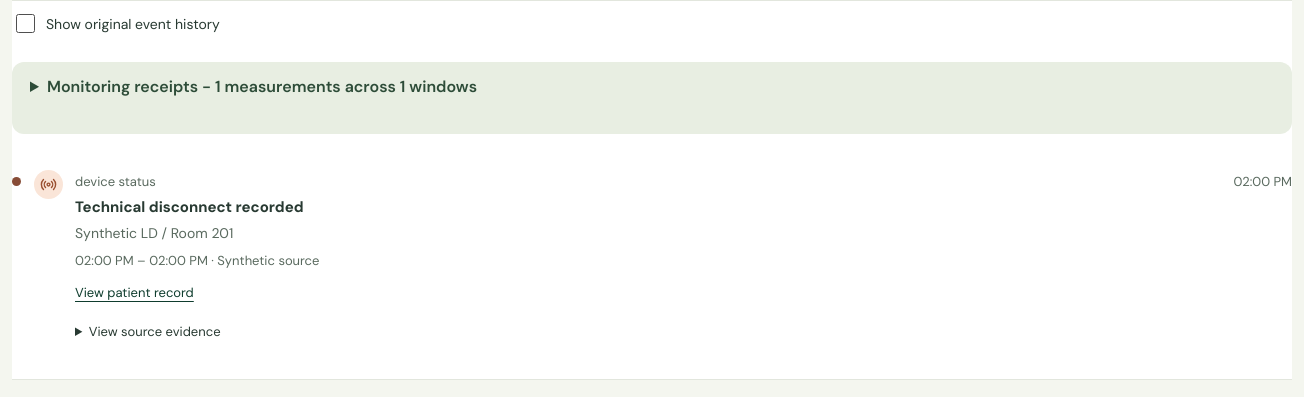
Test case: renders backend counts once and preserves original device and documentation events
Expected: the text "Technical disconnect recorded" is shown, [75,196,304,216]
Click the checkbox labelled "Show original event history".
click(26, 24)  # box [16,14,35,33]
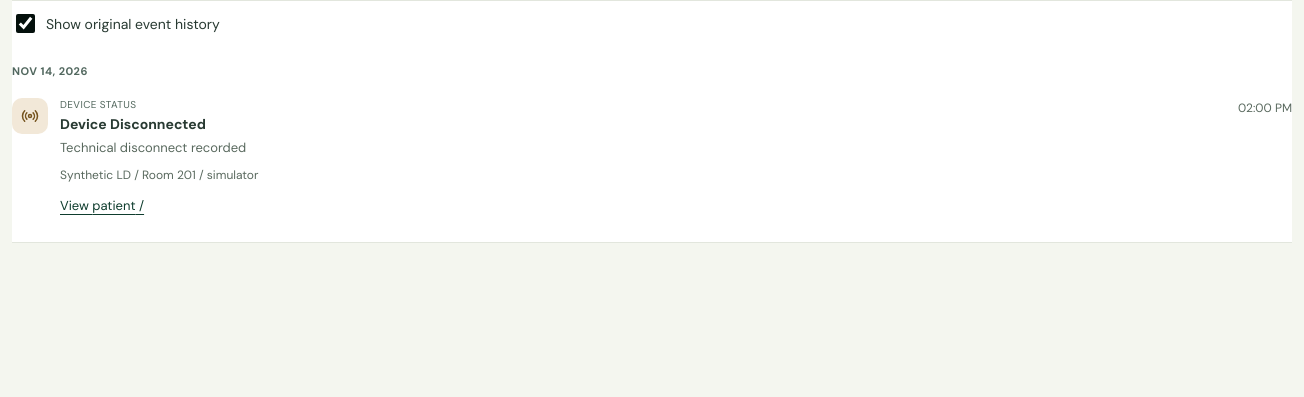
Expected: the text "Technical disconnect recorded" is shown, [60,139,246,156]
